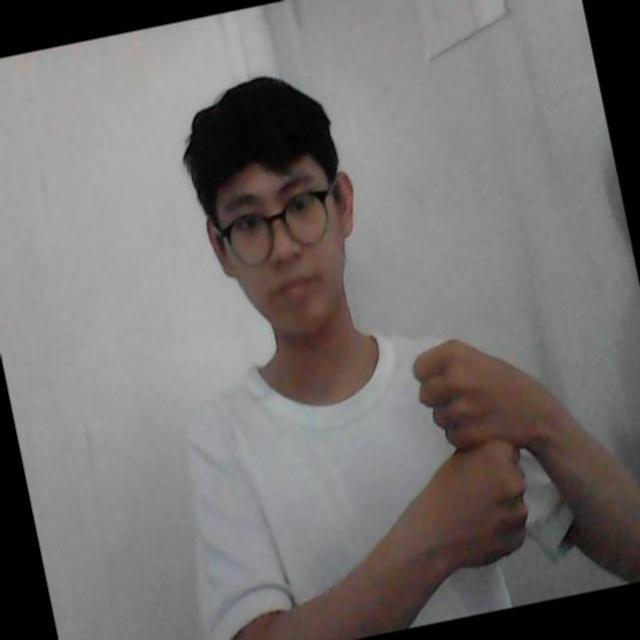G: (400, 328, 542, 568)
